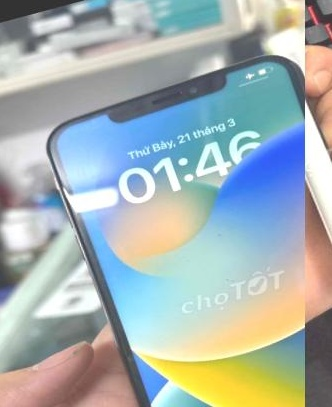scratch: (305, 94, 321, 133)
